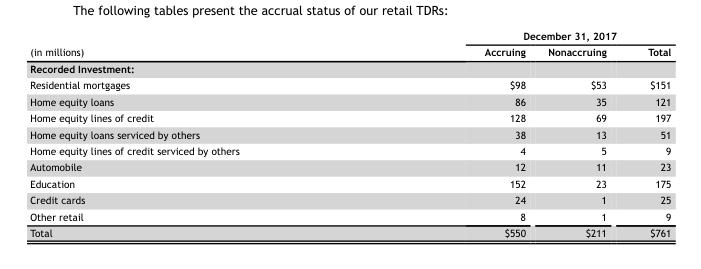table: (29, 29, 670, 238)
table column: (29, 29, 361, 238), (361, 29, 536, 238), (536, 29, 626, 238), (626, 29, 670, 238)
table column header: (29, 29, 670, 59)
table projected row header: (29, 59, 670, 76)
table row: (29, 59, 670, 76), (29, 92, 670, 109), (29, 125, 670, 142), (29, 174, 670, 191), (29, 207, 670, 224), (29, 43, 670, 59), (29, 76, 670, 92), (29, 109, 670, 125), (29, 142, 670, 158), (29, 158, 670, 174), (29, 191, 670, 207), (29, 29, 670, 43), (29, 224, 670, 238)
table spanning cell: (29, 29, 361, 59), (361, 29, 670, 43)
